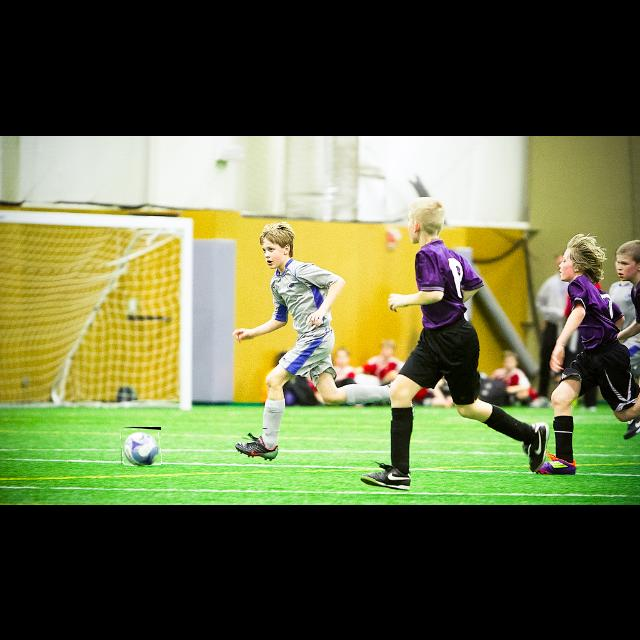Football: (121, 427, 161, 465)
